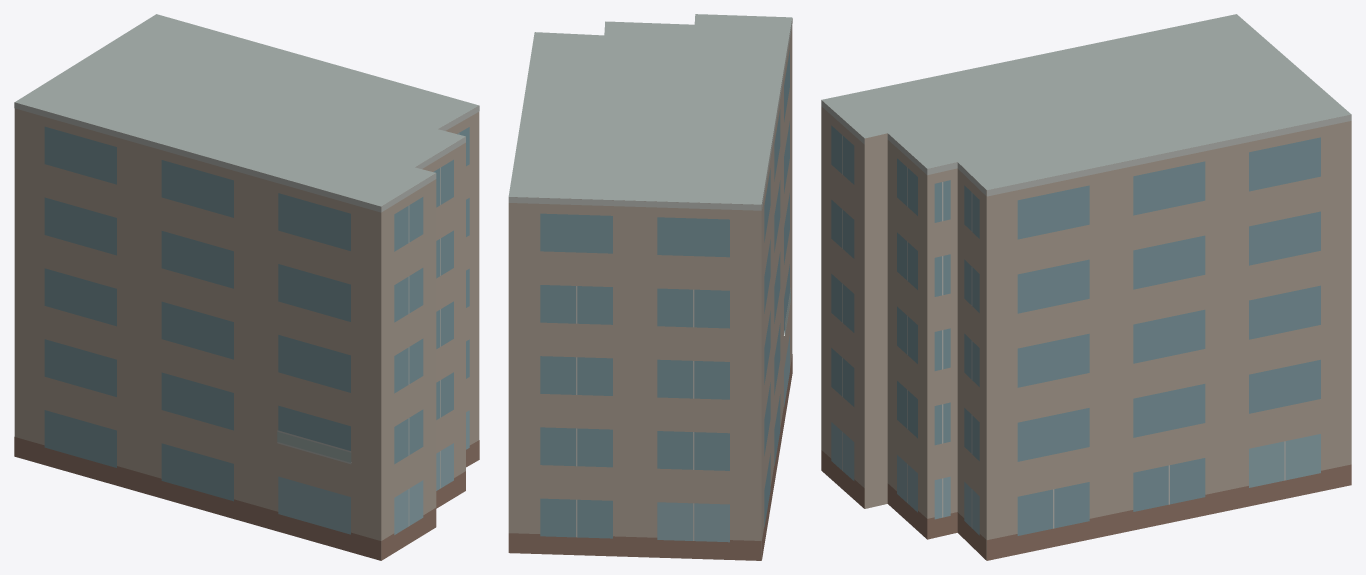
The model's file is survey-upis-32708893.glb.
3 views of the same model, side by side, from view 1: azimuth 30°, elevation 25°; view 2: azimuth 150°, elevation 25°; view 3: azimuth 270°, elevation 25° (orthographic). The views are drawn at different scales.
Parts seen in each view (by area): view 1: survey-upis-32708893.tmp; view 2: survey-upis-32708893.tmp; view 3: survey-upis-32708893.tmp.
Part boxes in pixels (box(x1,y1,x2,y2)): survey-upis-32708893.tmp: box(14, 14, 479, 560); survey-upis-32708893.tmp: box(508, 14, 792, 560); survey-upis-32708893.tmp: box(821, 14, 1351, 560).
Bounding box in the file's own units: 14.7 × 14.4 × 18.69.
